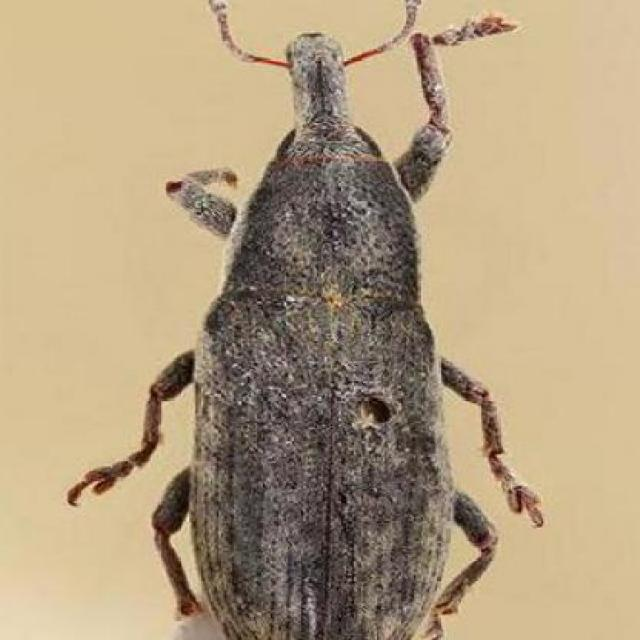rice-bug: (97, 1, 543, 640)
